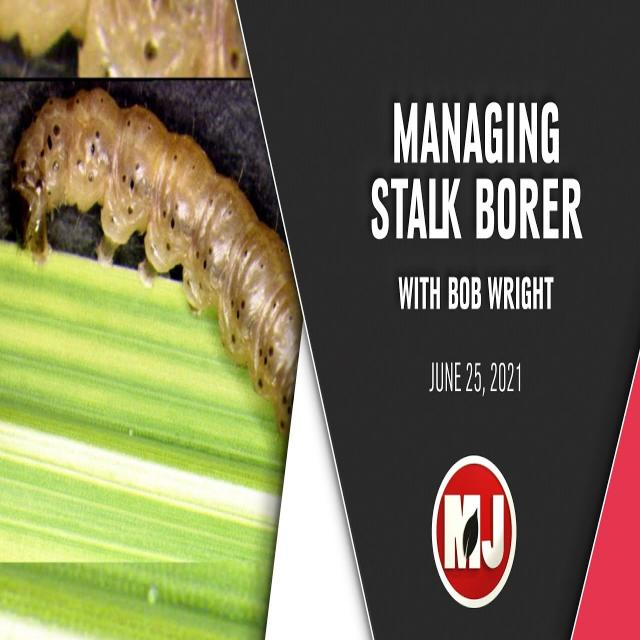cornborer-Larva-: (12, 83, 306, 441)
